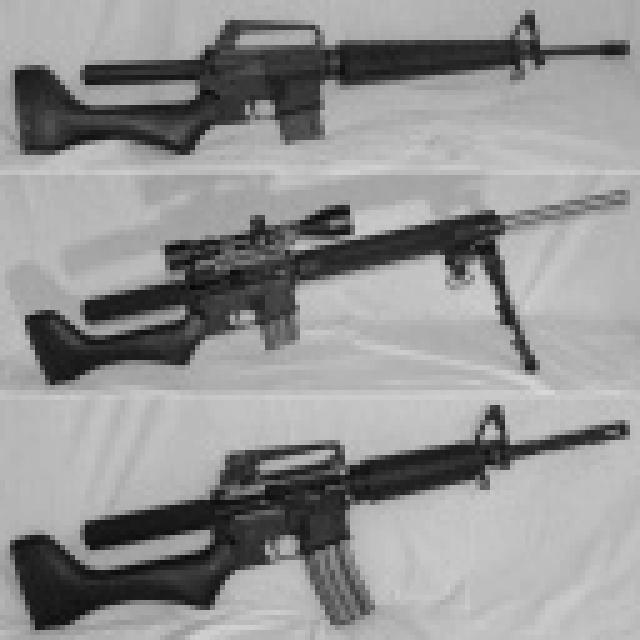Rifle: (0, 400, 640, 640), (0, 186, 640, 393), (0, 0, 640, 184)
